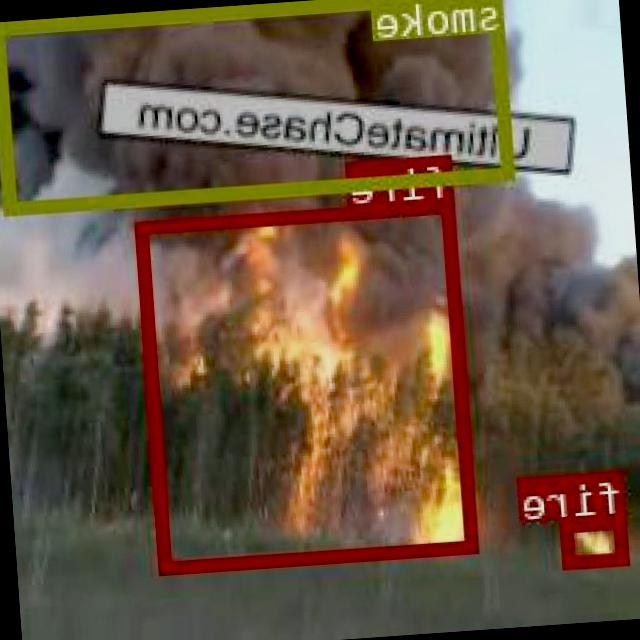fire: (138, 198, 480, 572), (562, 514, 630, 566)
smoke: (0, 0, 516, 213)
